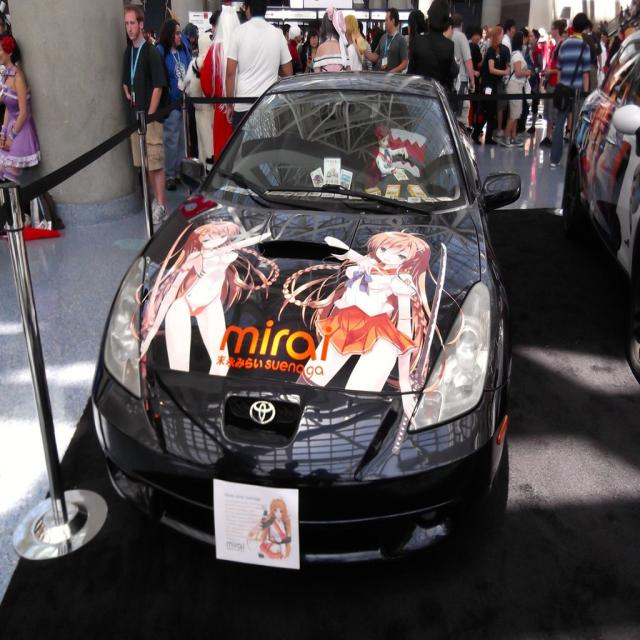car: (90, 58, 526, 614)
